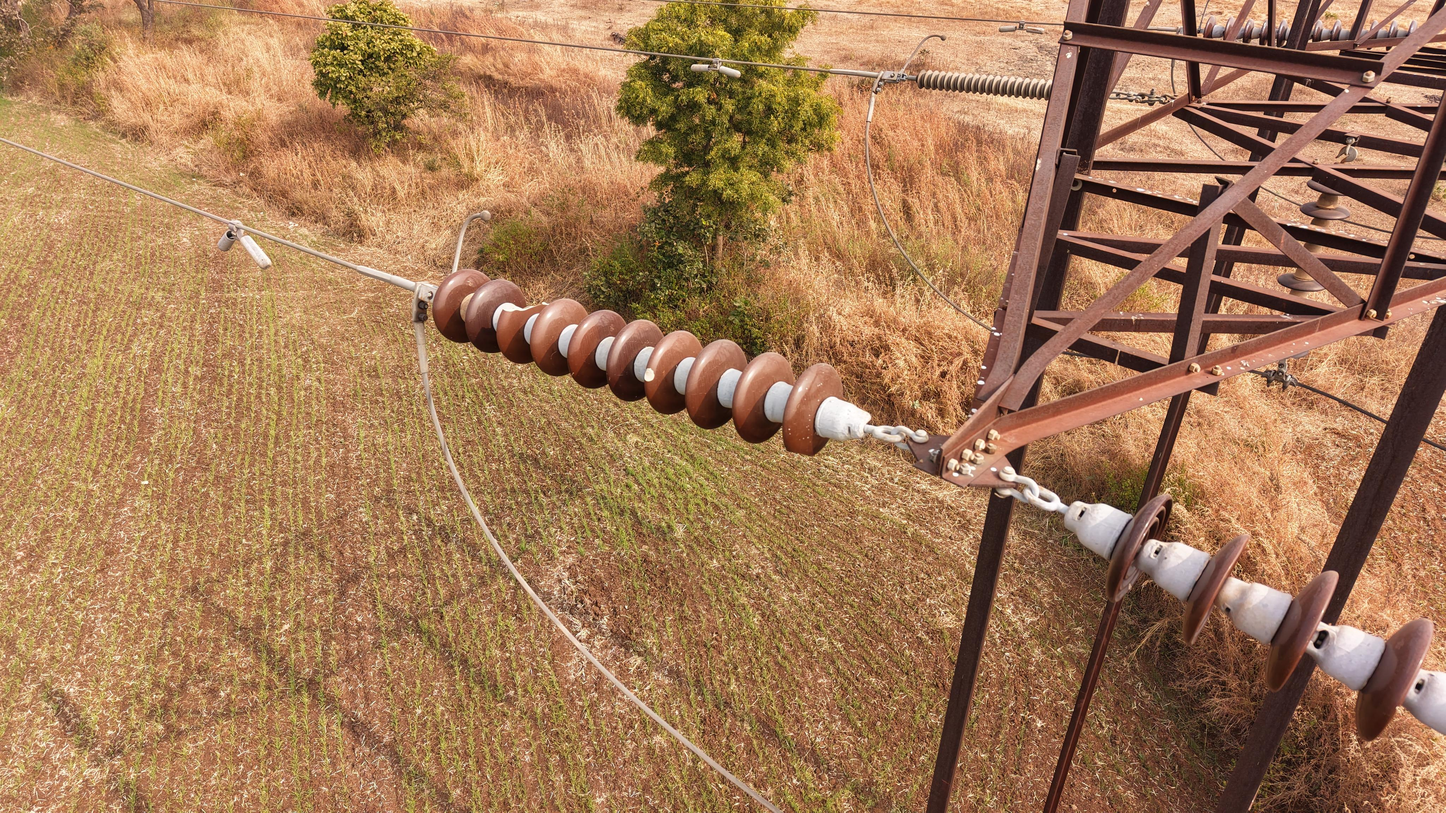broken_insulator: (495, 295, 550, 368)
